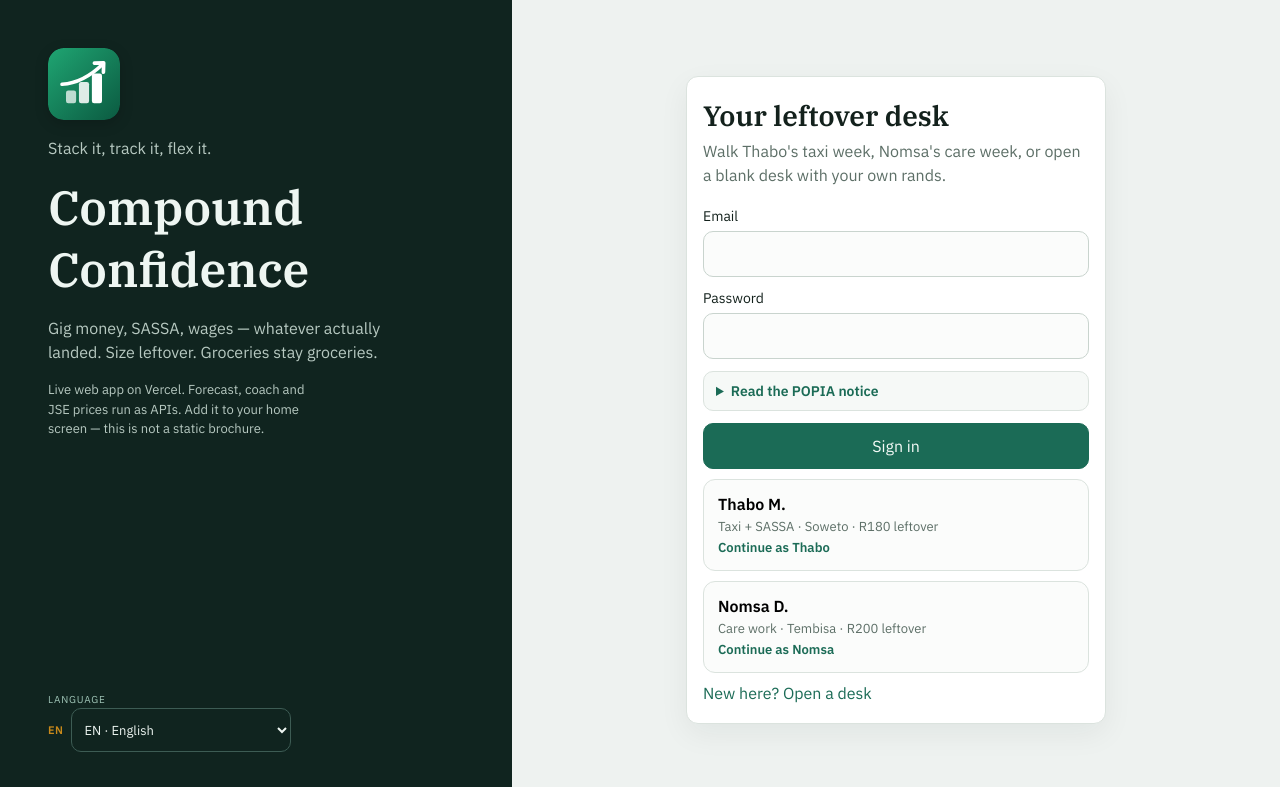
Test: Compound Confidence dashboard › answers on the phone when the coach server is unreachable
Click the button with test id "demo-login" at (896, 525), box x1=703 y1=479 x2=1089 y2=571
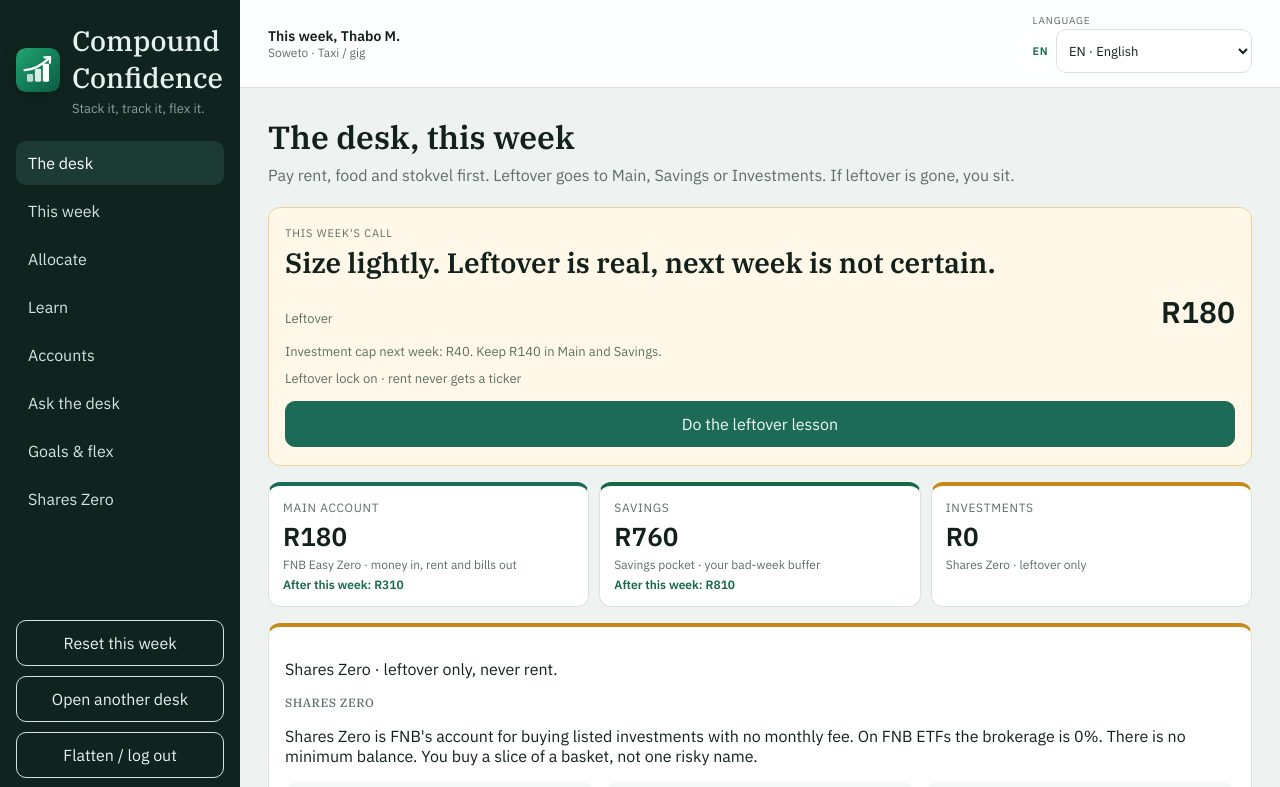
Click the button "Ask the desk" at (120, 403), box x1=16 y1=381 x2=224 y2=425
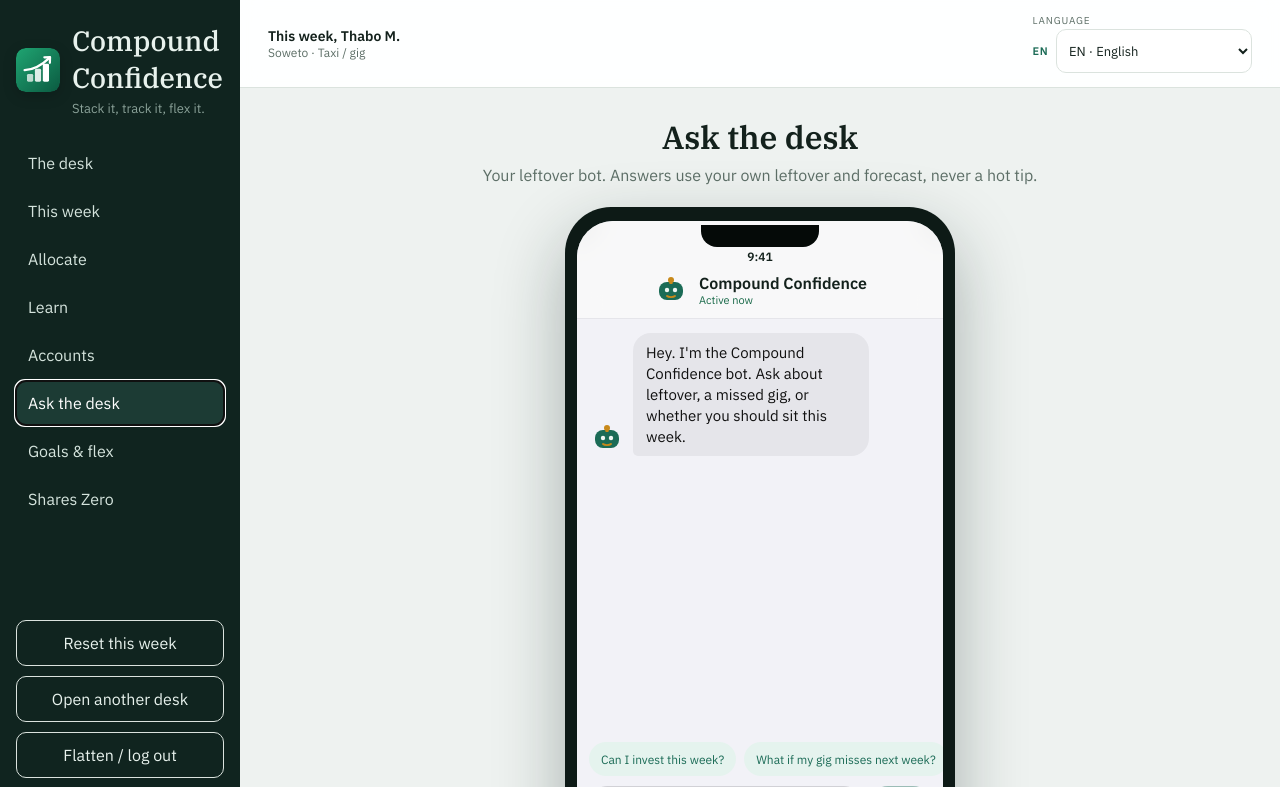
Click the button "Can I invest this week?" at (663, 759), box x1=589 y1=742 x2=736 y2=776
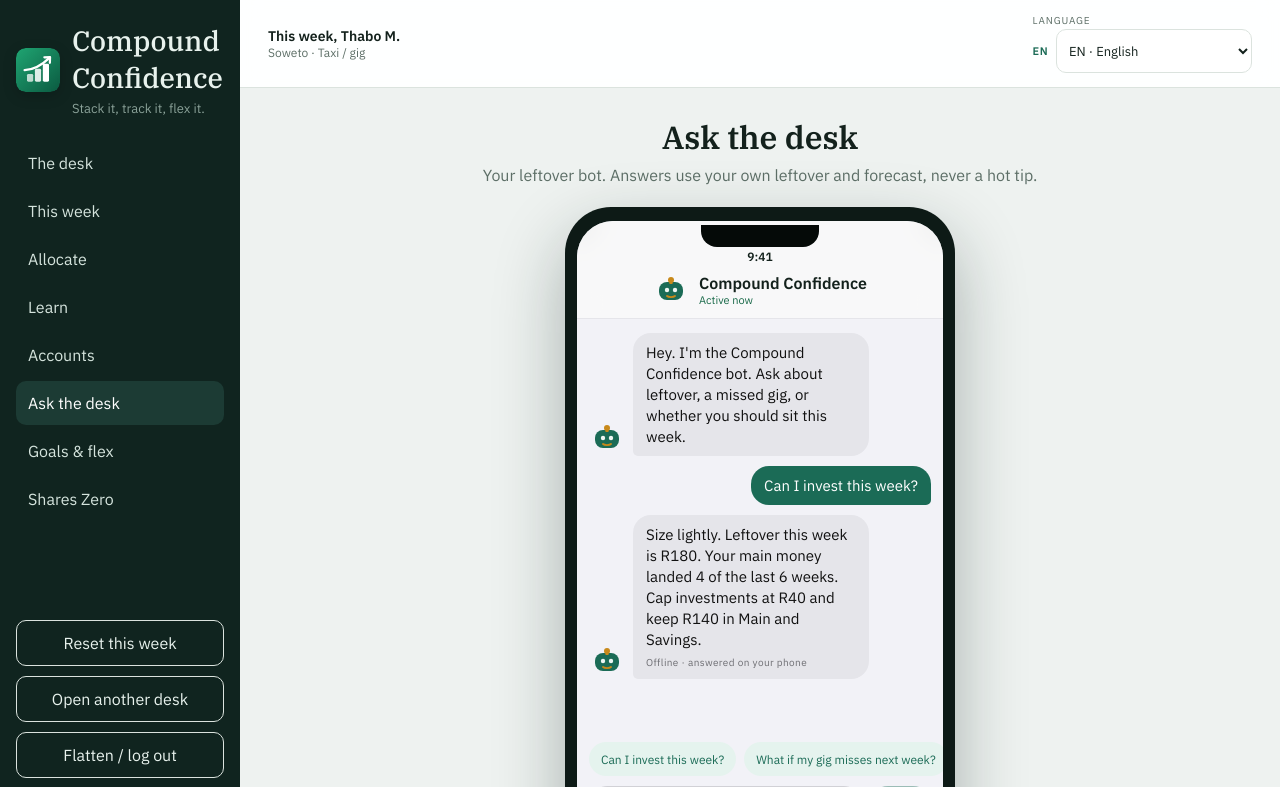
Expected: the text "cap investments at R40" is shown, x1=646 y1=525 x2=848 y2=649
Expected: the text "Offline · answered on your phone" is shown, x1=646 y1=656 x2=807 y2=669
